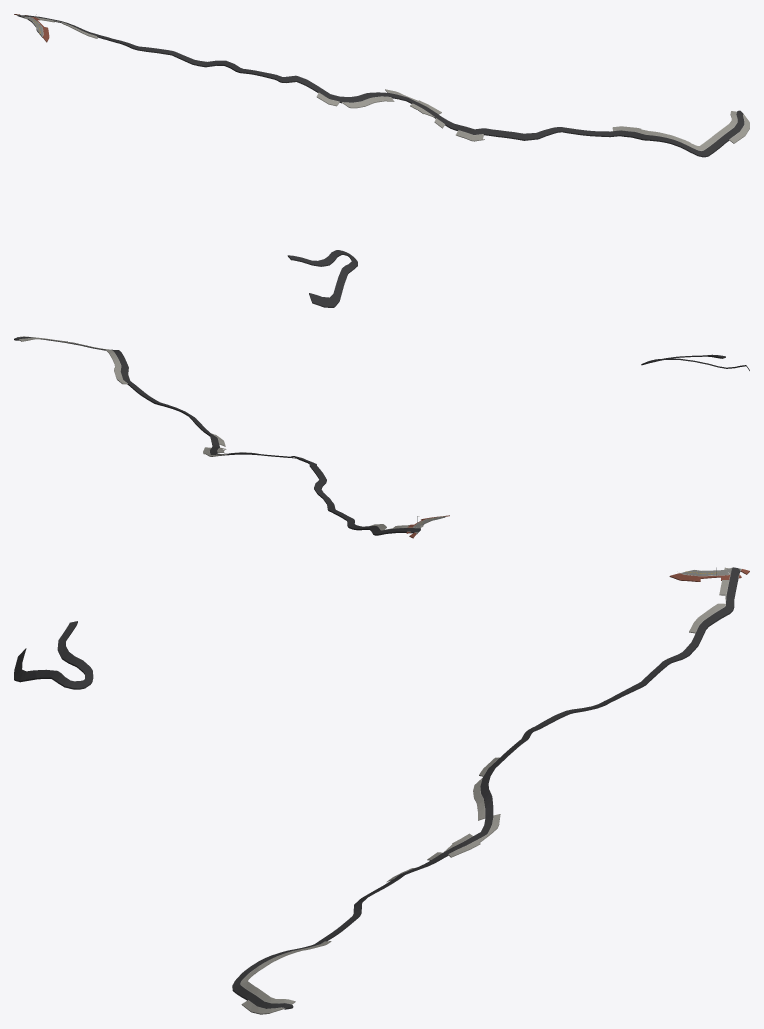
3 renders of one model, top to bottom at view 1: azimuth 30°, elevation 25°; view 2: azimuth 150°, elevation 25°; view 3: azimuth 270°, elevation 25°, orthographic. The views are drawn at different scales.
Size of the model in its own units: 589 by 118 by 564.
